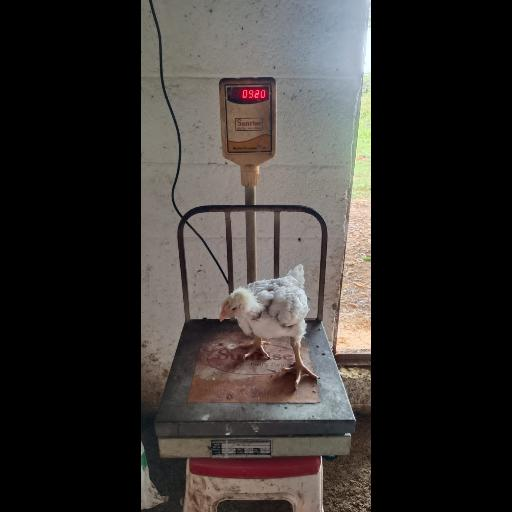chick: (221, 263, 320, 388)
